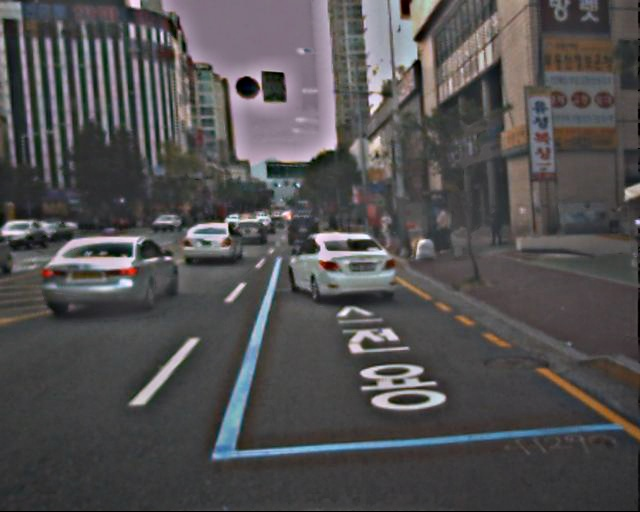person: (434, 204, 455, 255), (378, 209, 395, 251), (487, 207, 504, 249)
